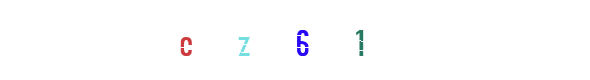1: (267, 0, 347, 80)
6: (262, 0, 342, 80)
C: (145, 0, 225, 80)
Z: (255, 0, 335, 80)
